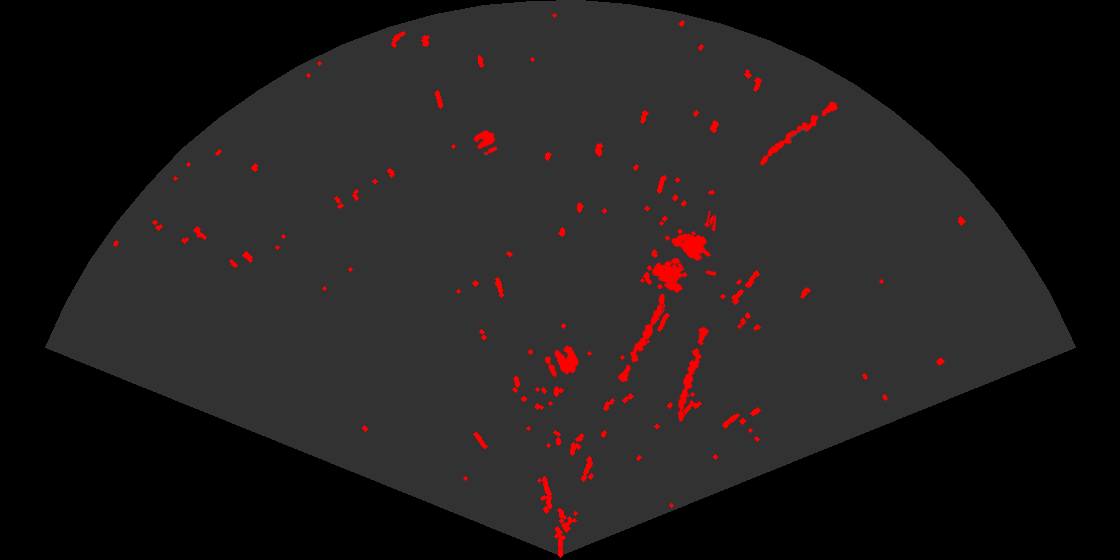ball: (543, 344, 580, 379), (472, 128, 499, 157)
cage: (650, 211, 716, 295)
chain: (759, 100, 840, 167), (616, 292, 666, 384), (676, 325, 710, 424)
